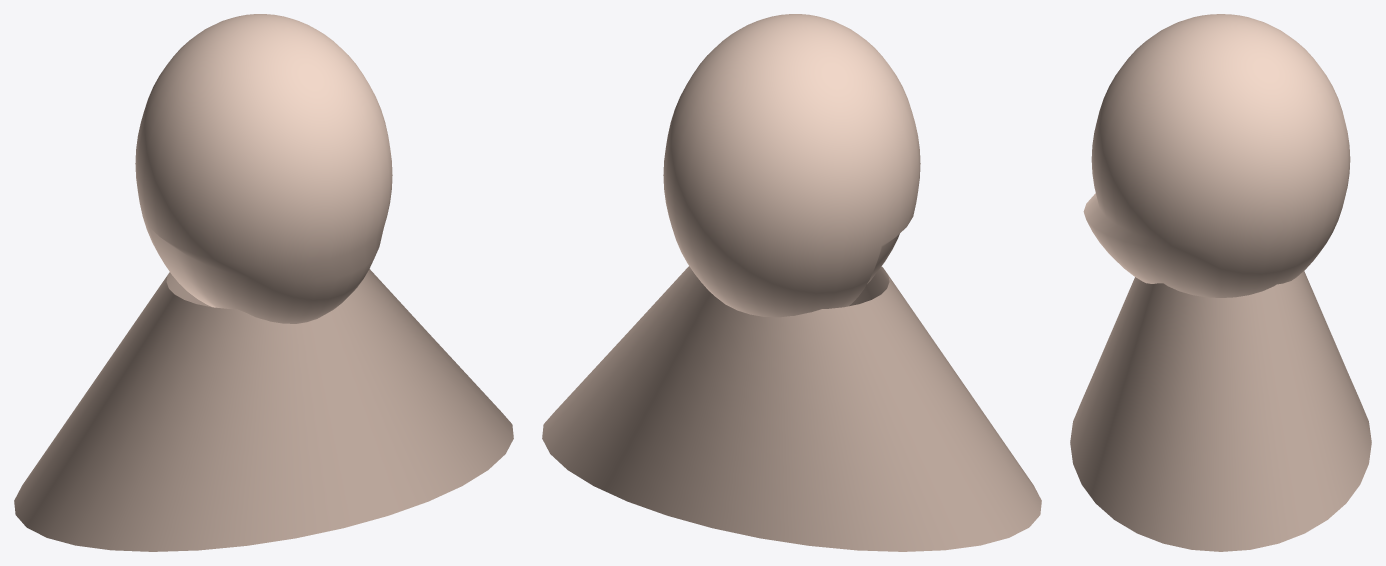
File: sagar-avatar.glb
3 views of the same model, side by side, from view 1: azimuth 30°, elevation 25°; view 2: azimuth 150°, elevation 25°; view 3: azimuth 270°, elevation 25° (orthographic). The views are drawn at different scales.
Visible parts, largest first — view 1: SagarAvatarMesh; view 2: SagarAvatarMesh; view 3: SagarAvatarMesh.
Part boxes in pixels (x1,y1,x2,y2): SagarAvatarMesh: [14, 14, 513, 551]; SagarAvatarMesh: [542, 14, 1041, 551]; SagarAvatarMesh: [1070, 14, 1371, 551].
Bounding box in the file's own units: 2.4 × 2.15 × 1.4.
